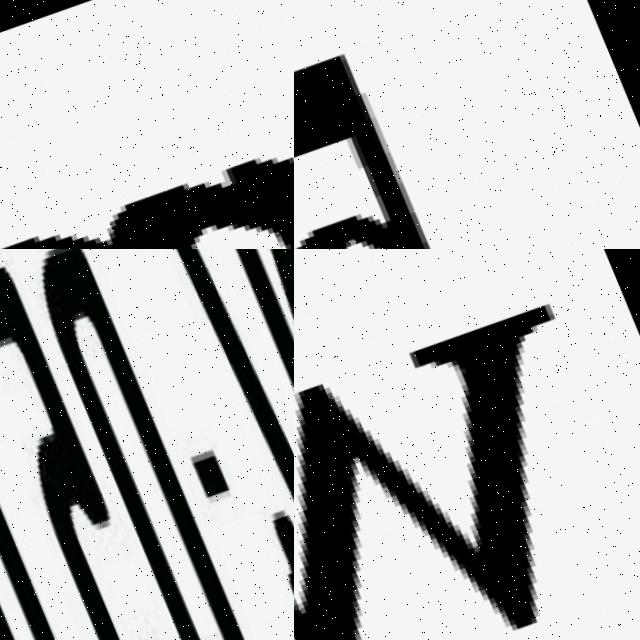1: (0, 262, 154, 640)
4: (122, 249, 294, 640)
5: (0, 249, 228, 640), (294, 2, 569, 249)
D: (13, 249, 294, 640)
M: (0, 46, 294, 249)
N: (202, 249, 294, 640), (0, 310, 100, 640)
W: (294, 249, 640, 640)
